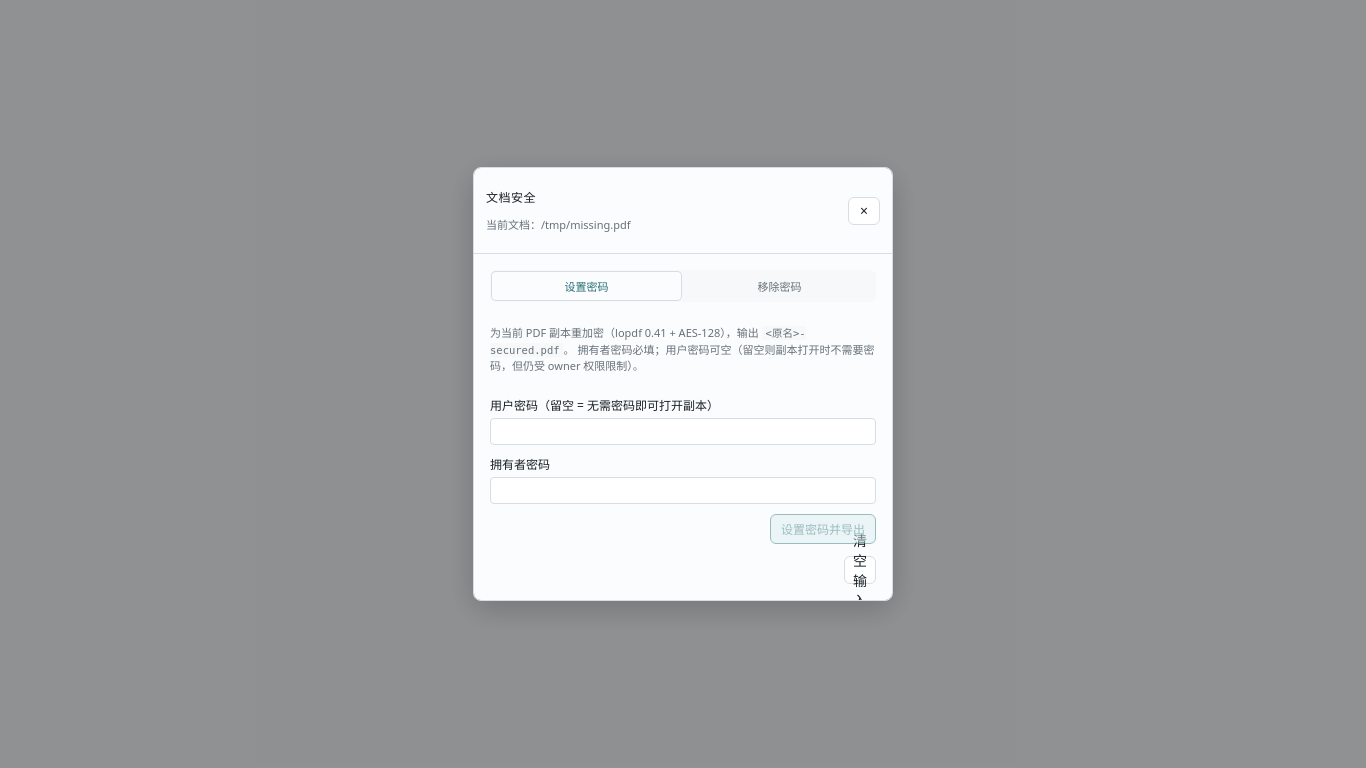
it: SecurityPanel (ISS-064 阶段 1 + DEC-102 P1-4) › remove 模式：FileNotFound 错误 → 显示「文件不存在」友好文案
Click the button "移除密码": click(780, 286) [685,272,874,300]
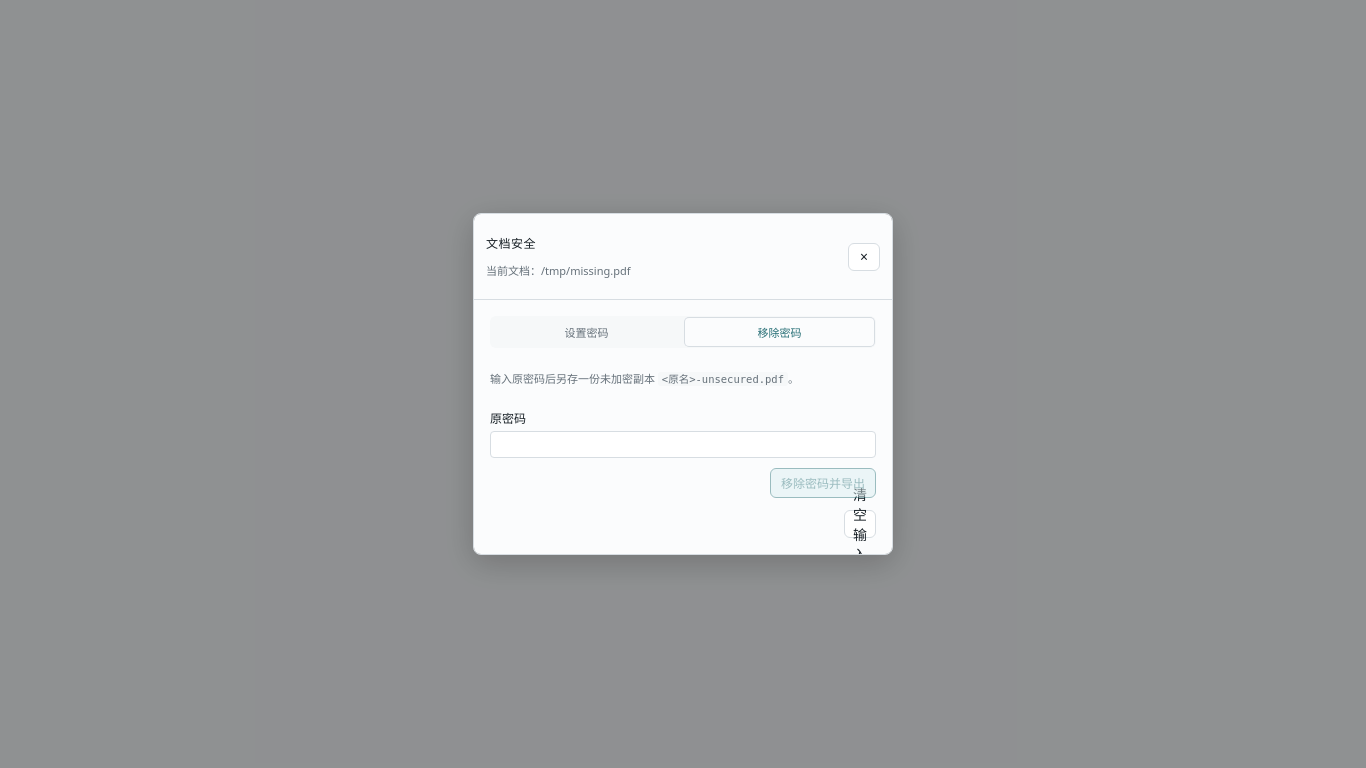
In the password field labelled "原密码": (683, 444) [490,431,876,458], type "any"
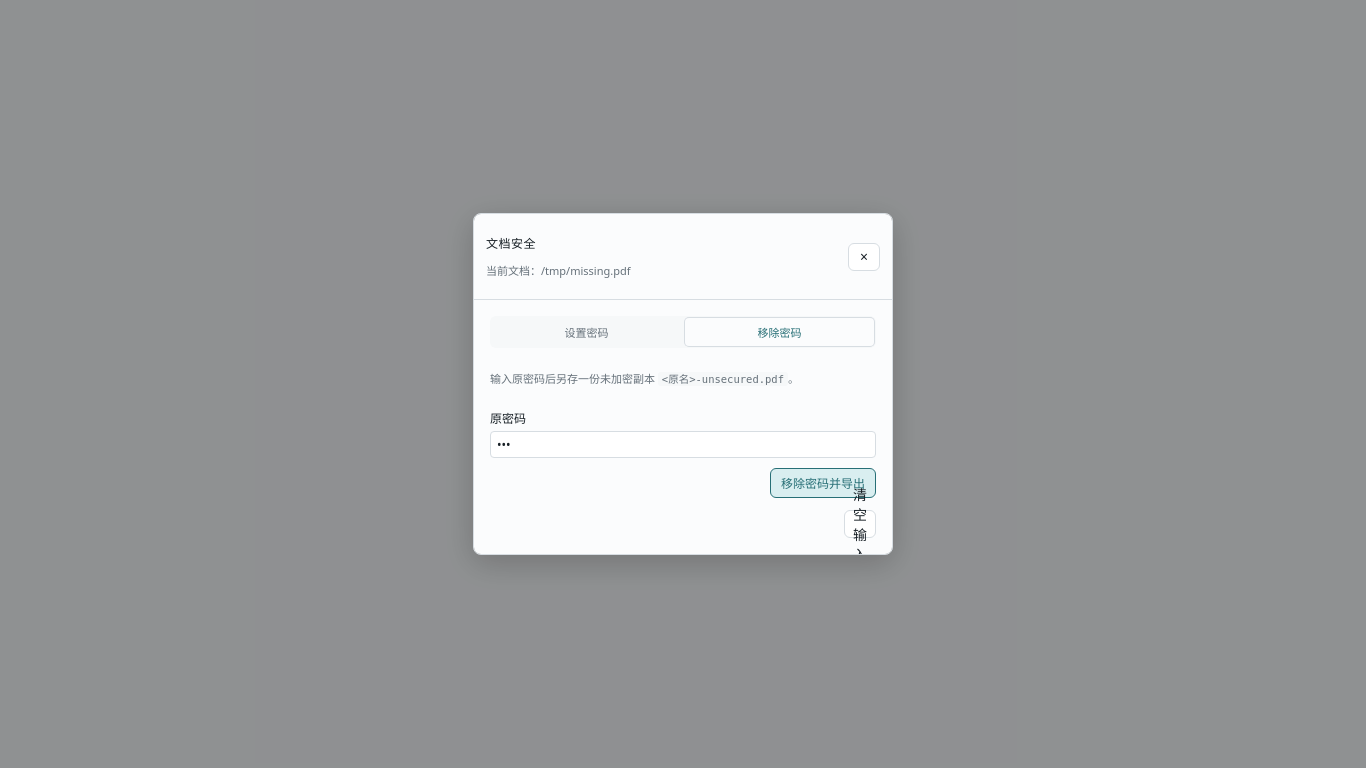
Click the button "移除密码并导出": click(823, 483) [770,468,876,498]
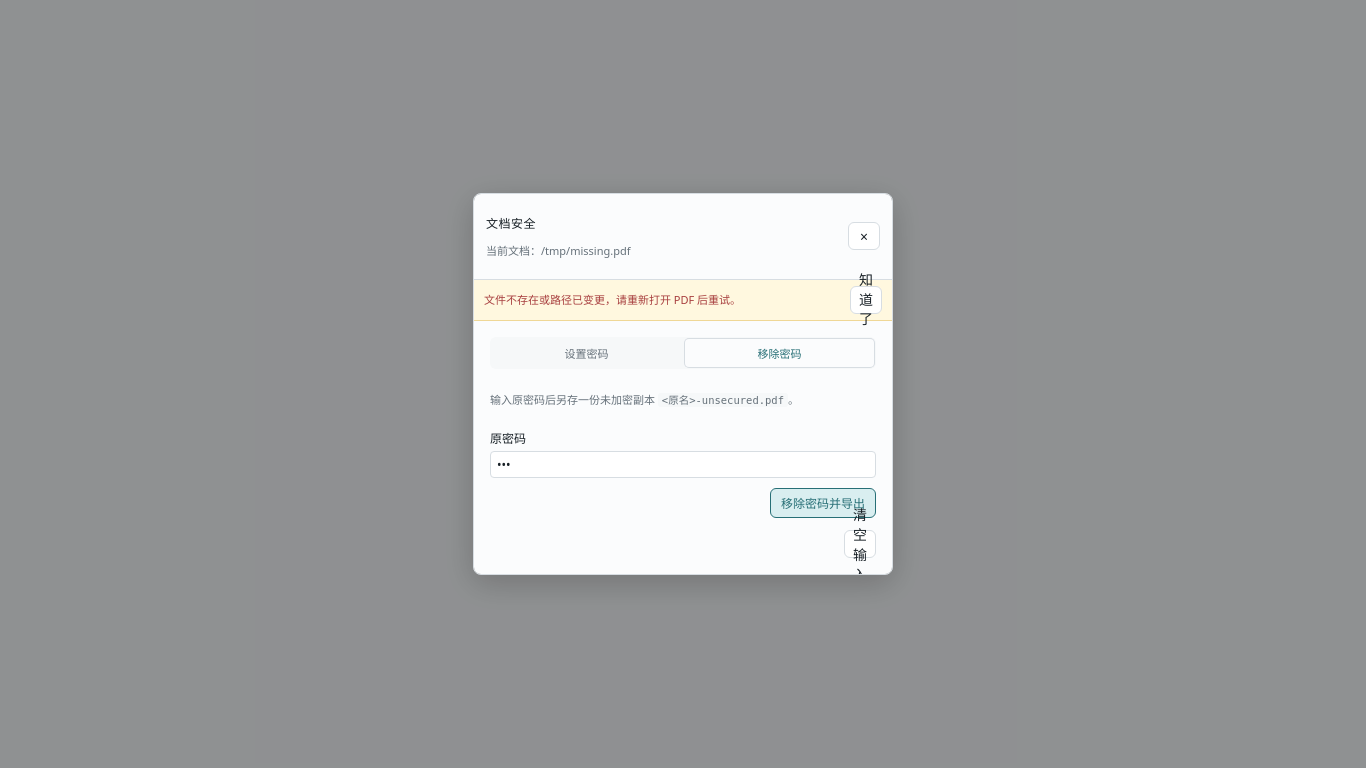
Now the message shows "文件不存在或路径已变更", box [484,292,741,307]
